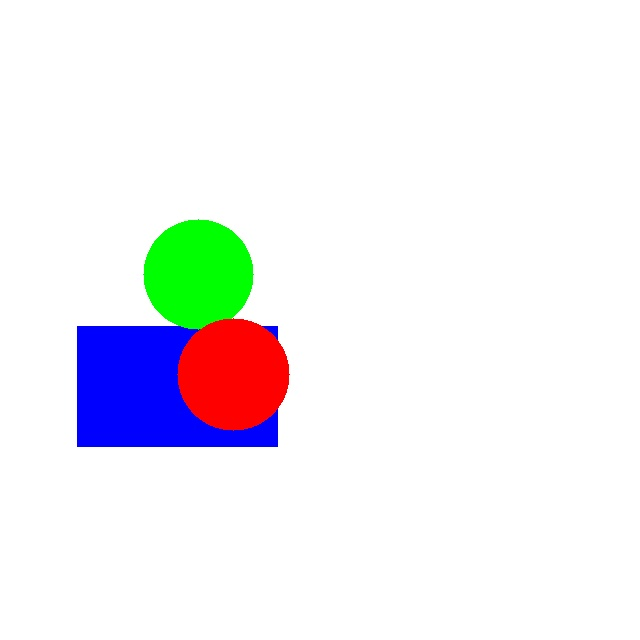cartao: (77, 326, 277, 446)
rosca_externa: (143, 219, 253, 329)
rosca_interna: (177, 318, 289, 430)
